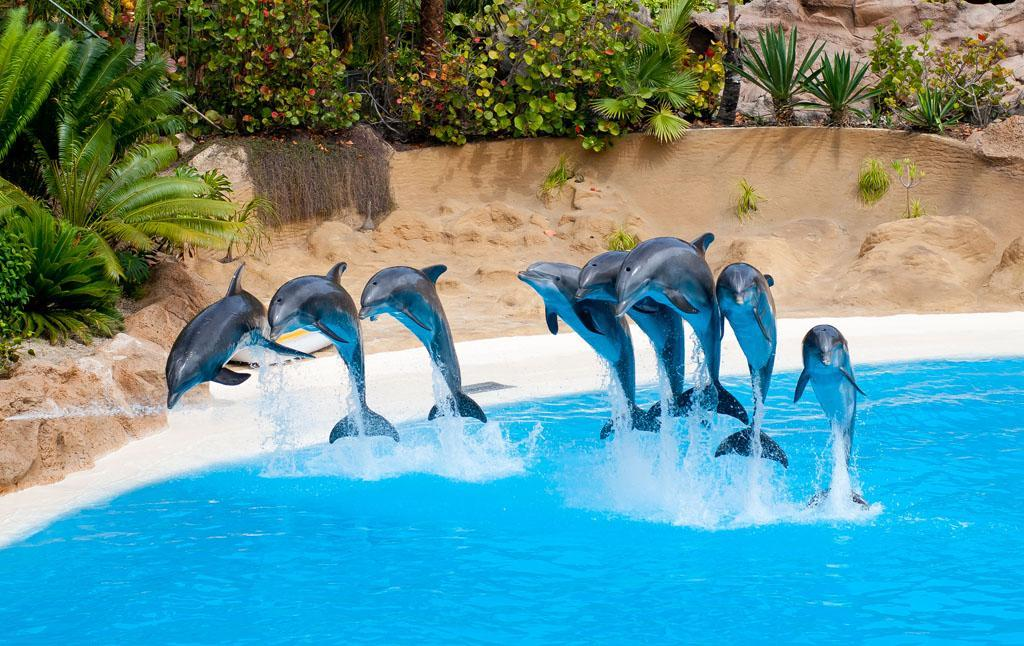fish: (515, 252, 661, 442), (617, 233, 752, 425), (575, 242, 709, 432), (267, 263, 406, 445), (161, 261, 317, 415), (361, 261, 496, 422), (790, 321, 888, 510), (714, 258, 788, 467)
